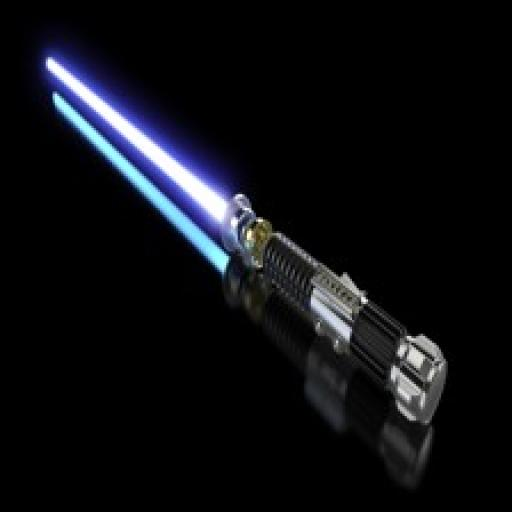lightsaber: (46, 56, 446, 428)
